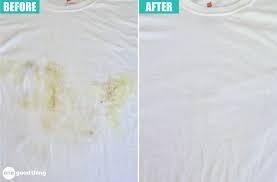earth: (1, 59, 40, 82), (43, 66, 61, 112), (102, 80, 125, 112), (17, 97, 34, 110)
